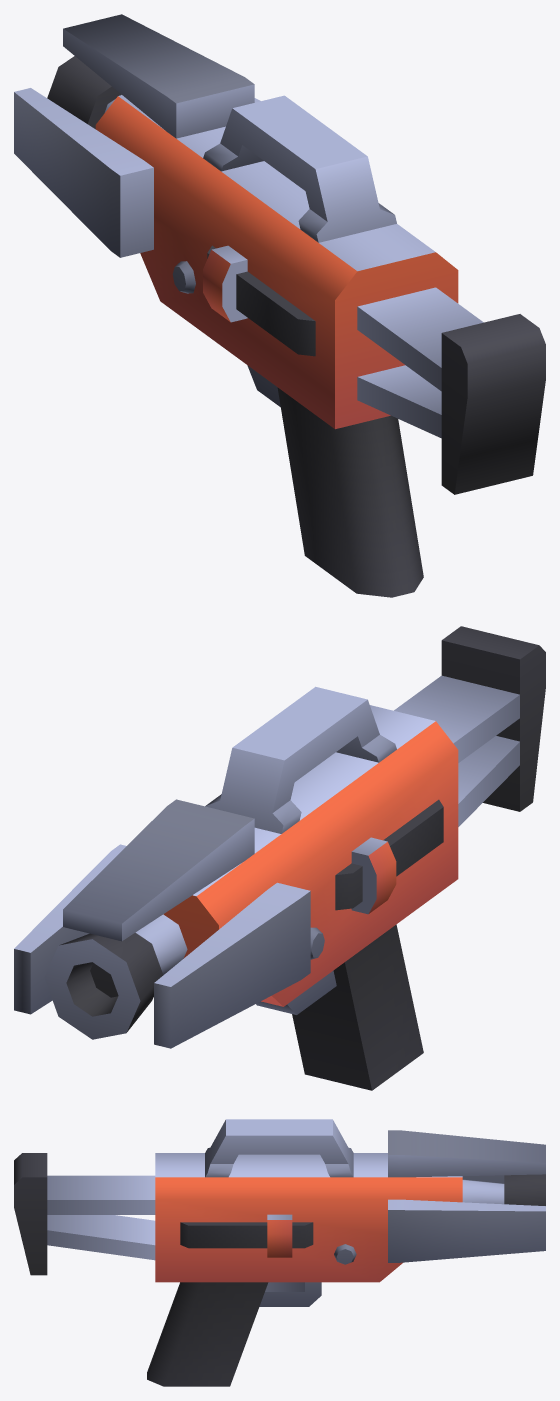
The model's file is blaster_n.glb.
The picture shows the model from 3 angles, top to bottom: view 1: azimuth 30°, elevation 25°; view 2: azimuth 150°, elevation 25°; view 3: azimuth 270°, elevation 25°; orthographic projection. The views are drawn at different scales.
Visible parts, largest first — view 1: blaster-n; view 2: blaster-n; view 3: blaster-n.
Boxes of the visible parts, x1,y1,x2,y2 form: blaster-n: (14, 14, 545, 597); blaster-n: (14, 626, 545, 1090); blaster-n: (14, 1119, 545, 1386).
Size of the model in its own units: 0.17 by 0.33 by 0.6401.
1 material, 1 textured.
